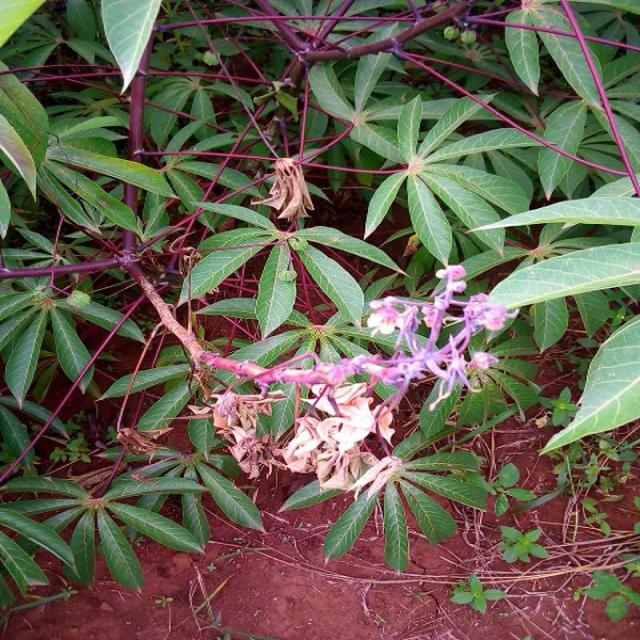cassava leaf: (2, 0, 639, 621), (538, 313, 640, 457), (101, 0, 162, 95)
